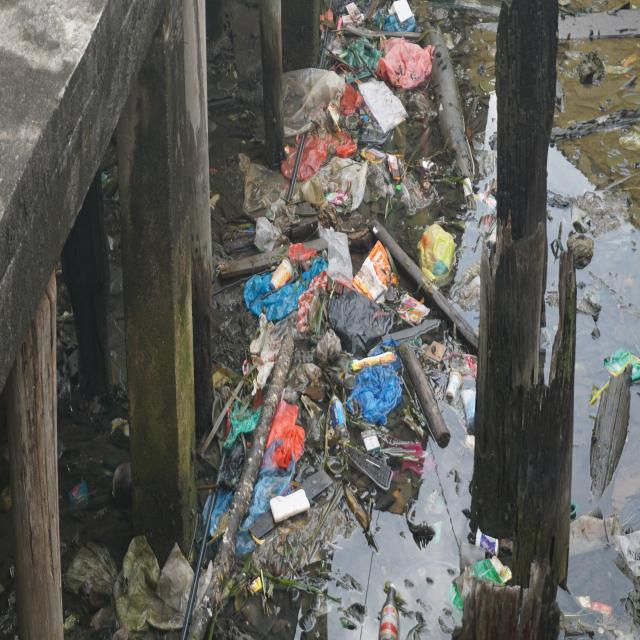Botol Plastik: (379, 581, 402, 640)
Bungkus Makanan: (400, 293, 431, 332), (360, 139, 389, 170), (387, 151, 409, 183)
Bungkus Minuman: (459, 539, 489, 572), (298, 173, 327, 207), (272, 256, 295, 294), (477, 524, 502, 558), (445, 370, 465, 404)
Kantong Plastik: (246, 257, 330, 332), (348, 338, 406, 429), (327, 288, 398, 355), (380, 38, 437, 93), (415, 220, 457, 294), (269, 402, 308, 469), (347, 36, 382, 87), (328, 227, 355, 292), (399, 174, 435, 220), (254, 214, 283, 254)
